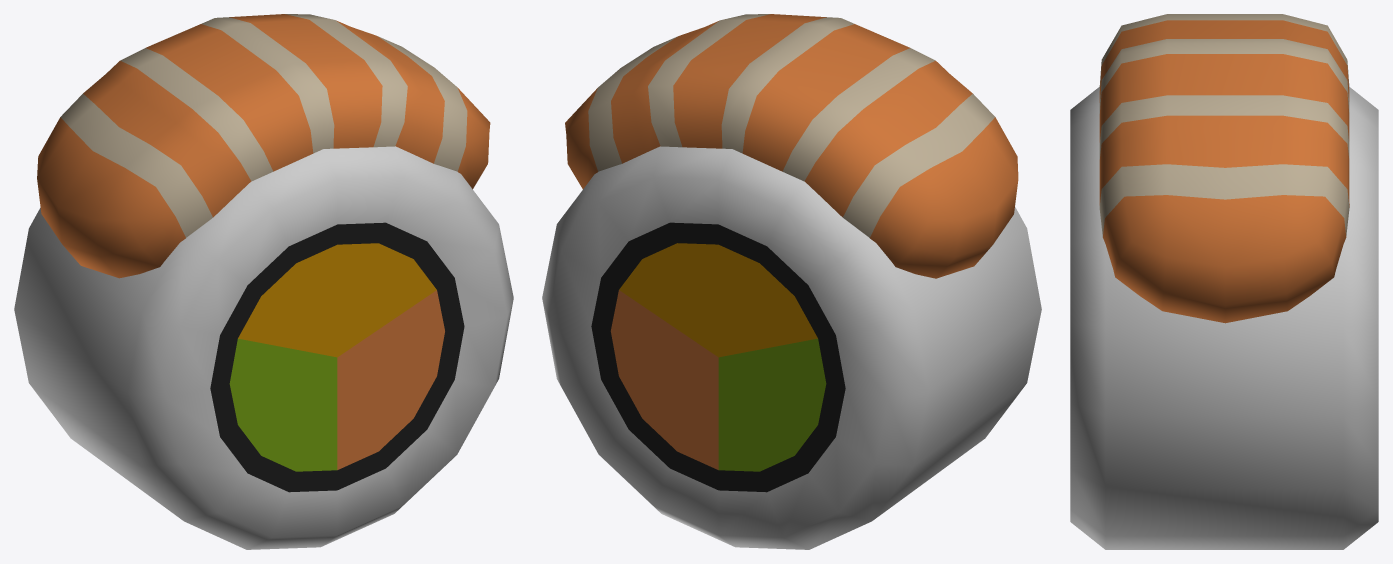
File: salmon-roll.glb
3 views of the same model, side by side, from view 1: azimuth 30°, elevation 25°; view 2: azimuth 150°, elevation 25°; view 3: azimuth 270°, elevation 25° (orthographic). The views are drawn at different scales.
Parts seen in each view (by area): view 1: Food_SalmonRoll; view 2: Food_SalmonRoll; view 3: Food_SalmonRoll.
Part boxes in pixels (x1,y1,x2,y2): Food_SalmonRoll: (14,14,513,549); Food_SalmonRoll: (542,14,1041,549); Food_SalmonRoll: (1070,14,1378,549).
Size of the model in its own units: 0.4655 by 0.4994 by 0.2881.
